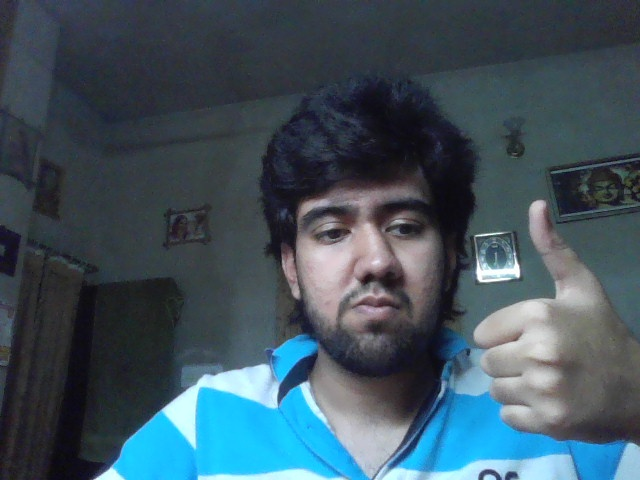Ok: (473, 200, 640, 440)
